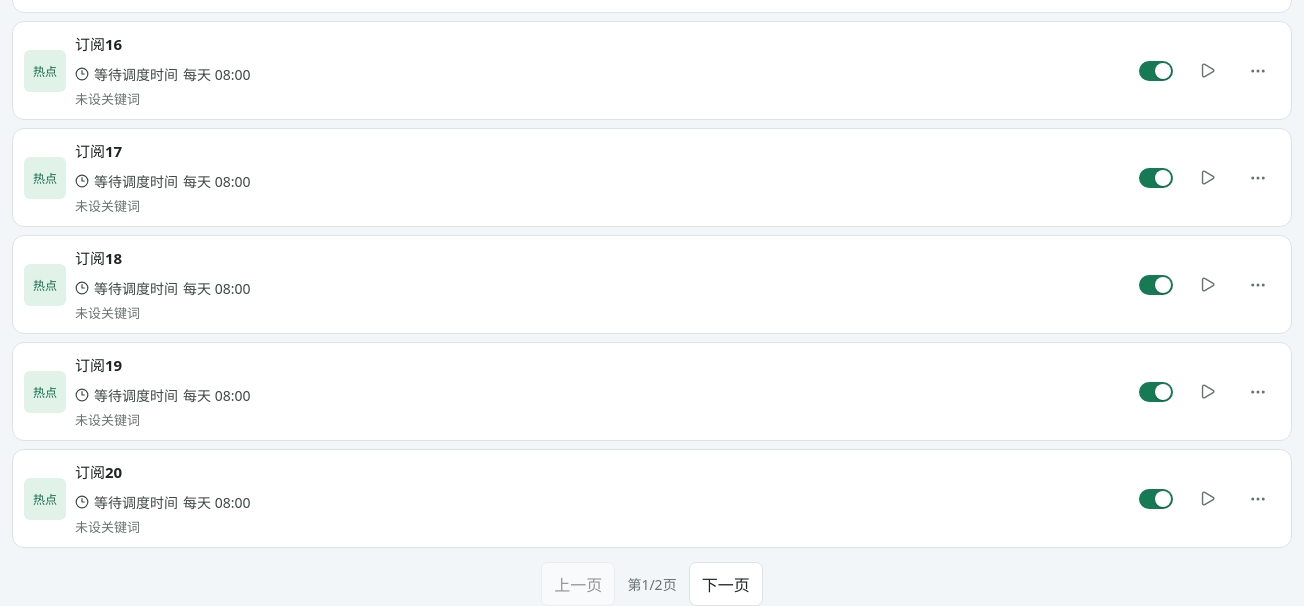
Test: 订阅列表分页限制首屏渲染量
(page scrolled)
expect the text "订阅21" is not shown: met
Click the button "下一页": (726, 584) [689,562,763,605]
(page scrolled)
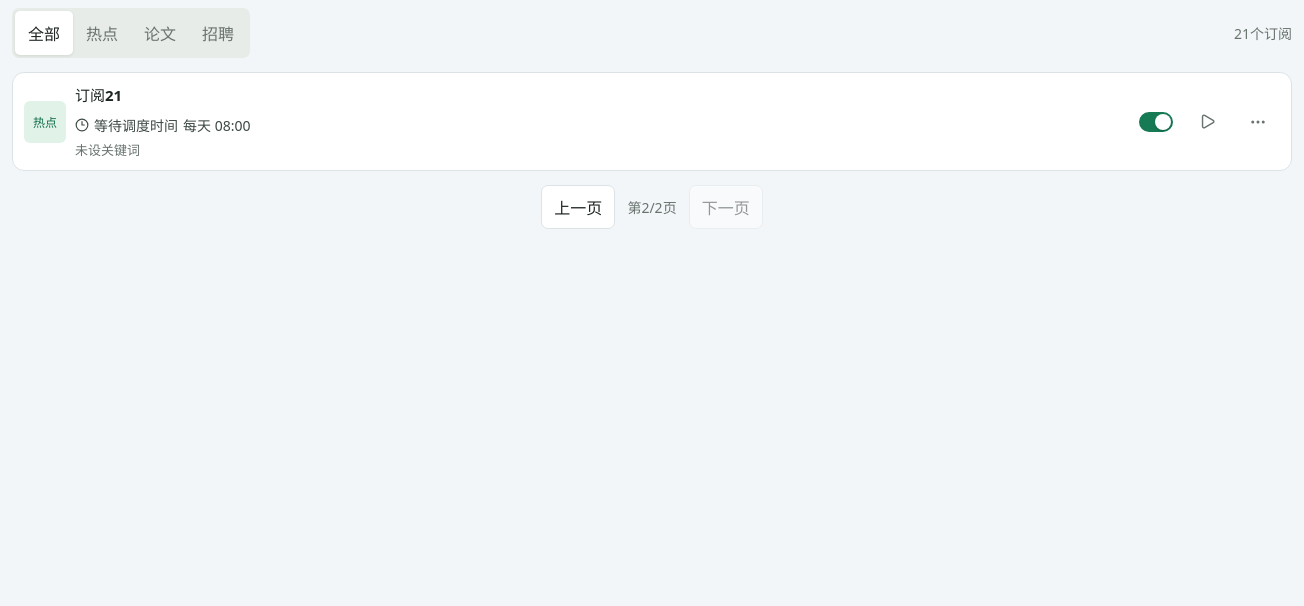
expect the heading "订阅21" is shown: met, box [75,85,122,105]
